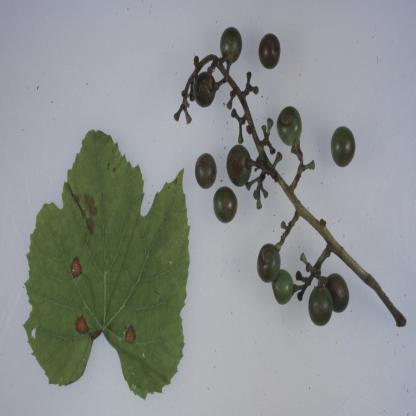grape leaf black rot: (18, 130, 193, 404)
